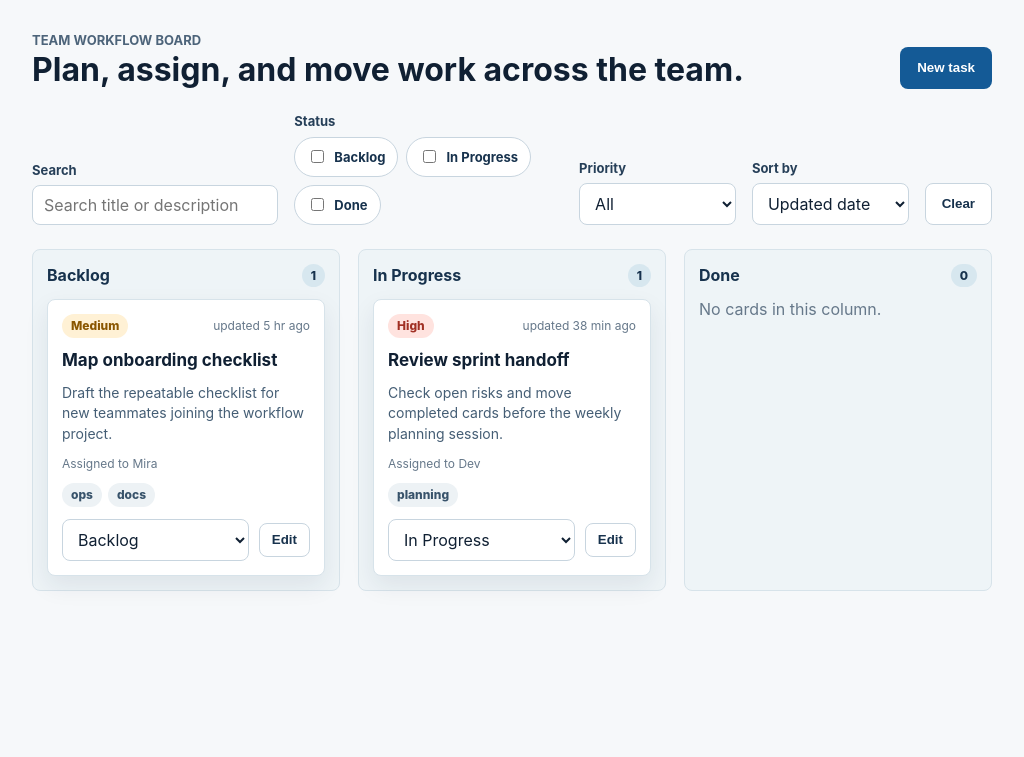
Test case: creates a task and shows it on the board
The width and height of the screenshot is (1024, 757).
Click the button "New task". click: click(946, 68)
box: [900,47,992,89]
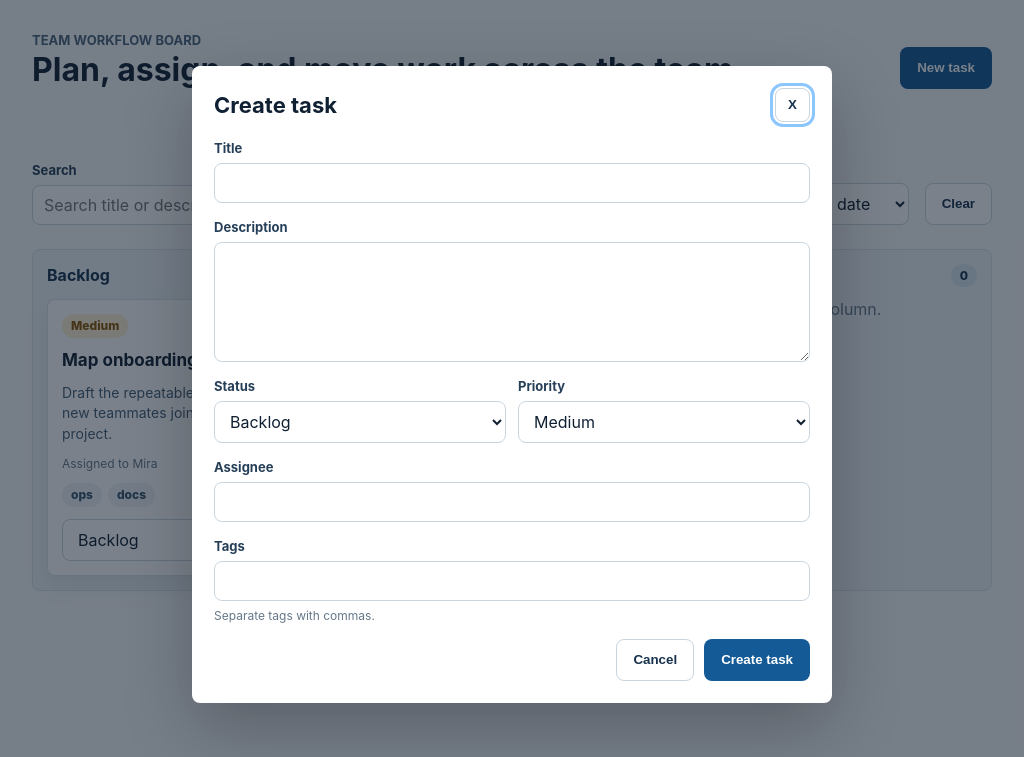
Type "Write release notes" into the field labelled "Title". click: (512, 182)
box: [214,162,810,202]
Type "Prepare the customer-facing release notes for the next workflow update." into the text box labelled "Description". click: (512, 302)
box: [214,242,810,362]
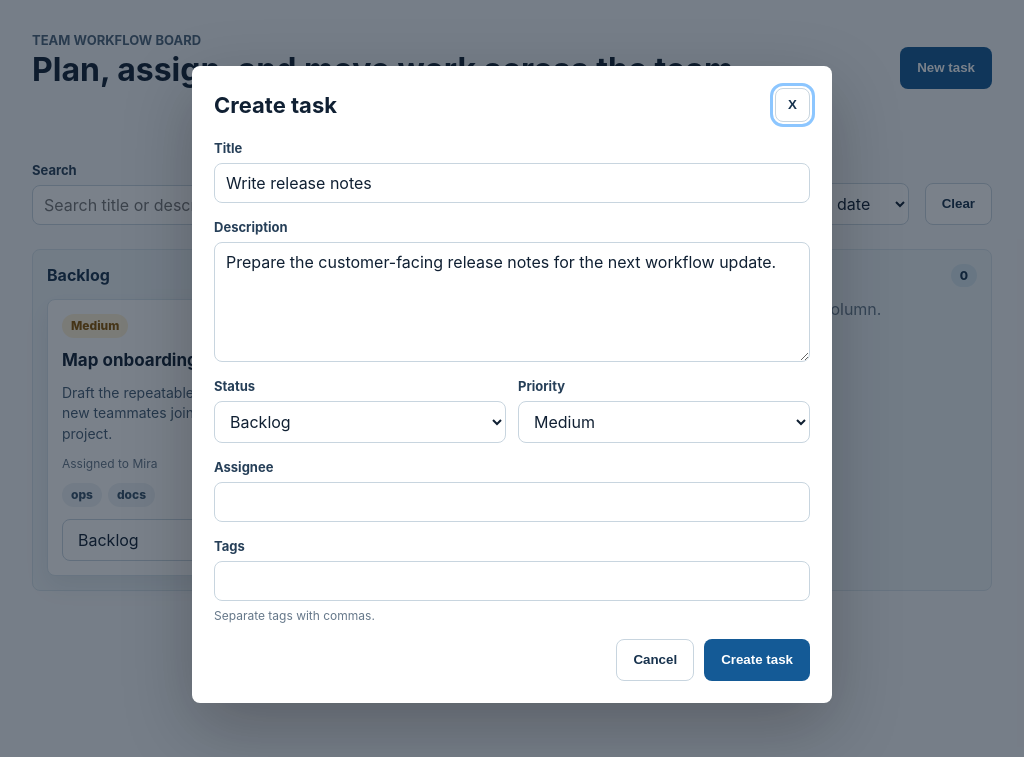
Type "Isha" into the field labelled "Assignee". click: (512, 502)
box: [214,482,810,522]
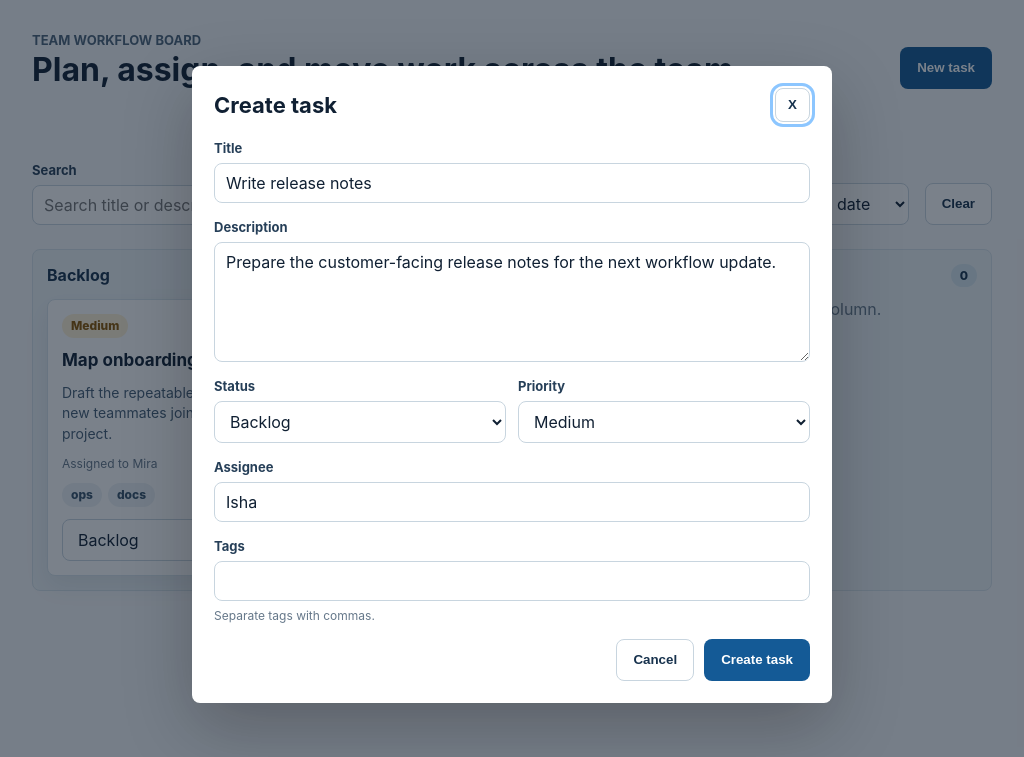
Type "release, docs" into the field labelled "Tags". click: (512, 580)
box: [214,560,810,600]
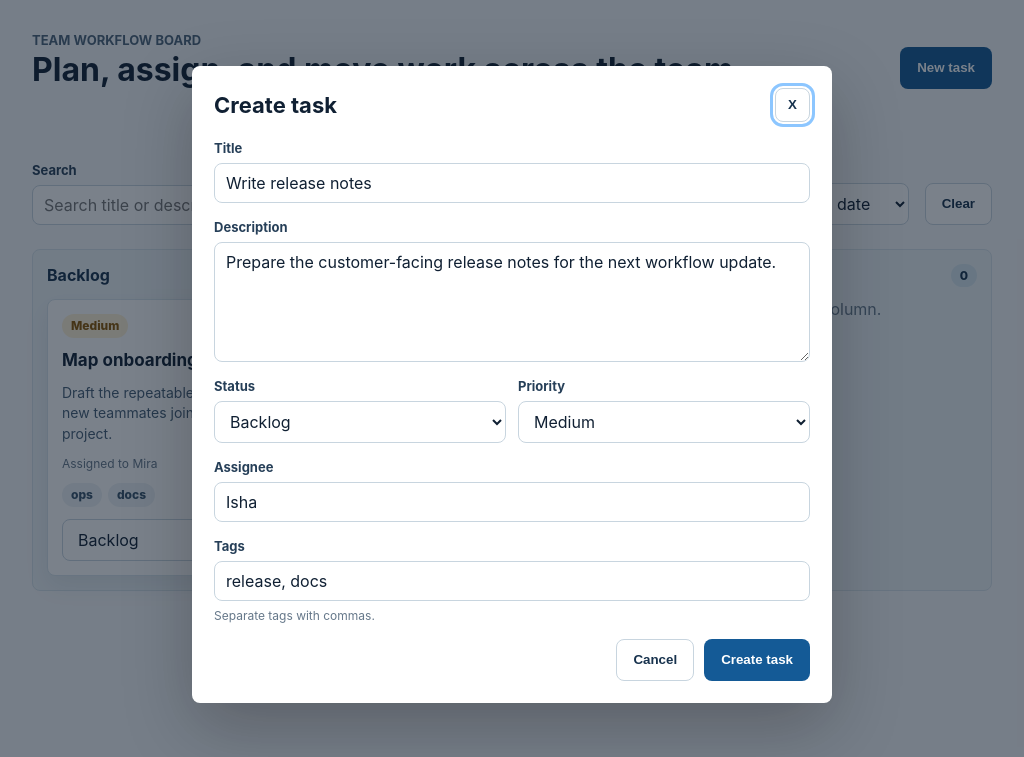
Select "High" in the dropdown labelled "Priority". click: (664, 422)
box: [518,400,810,442]
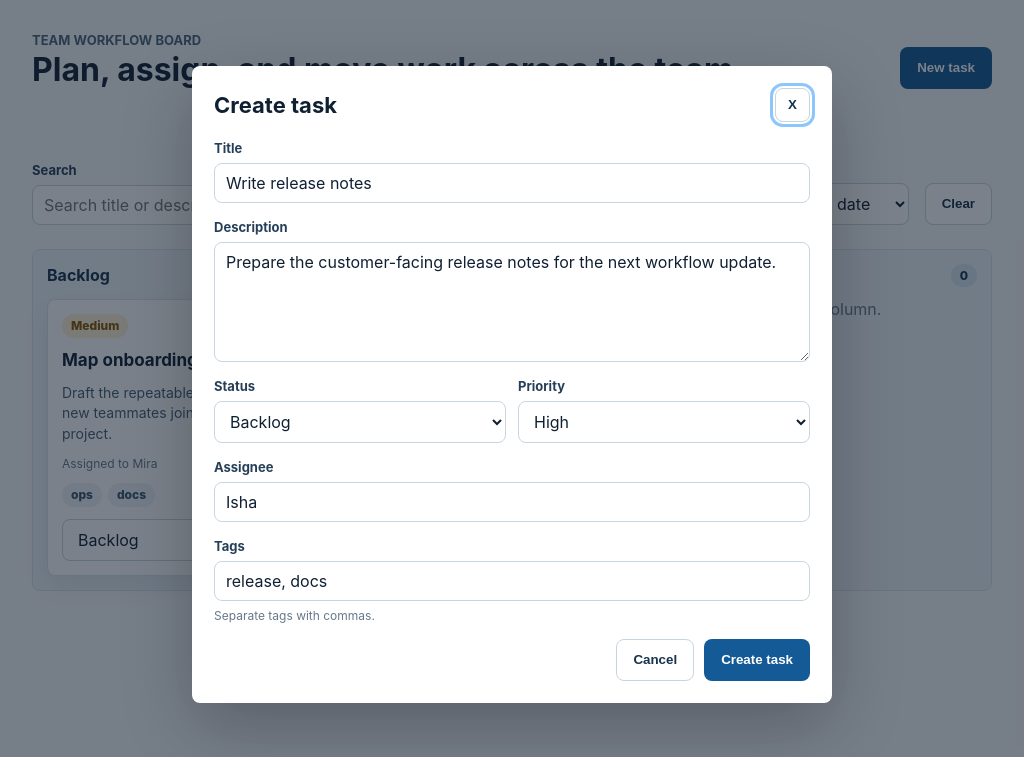
Click the button "Create task". click: click(757, 660)
box: [704,638,810,680]
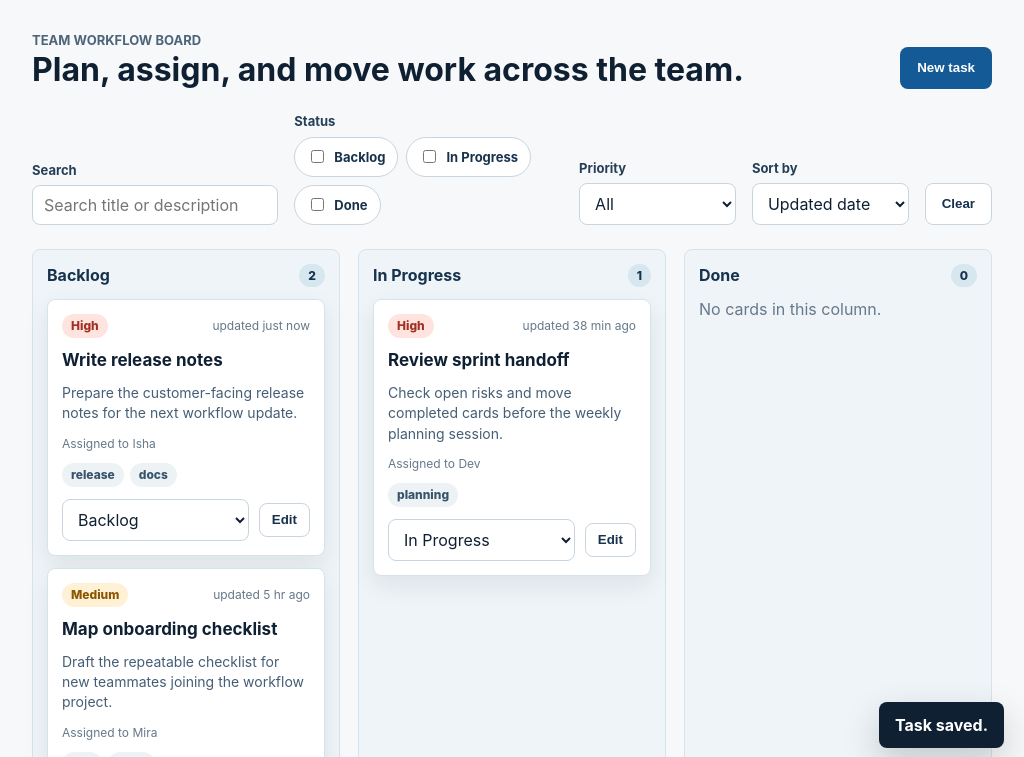
Expected: the heading "Write release notes" is shown, [62,350,223,370]
Expected: the text "Assigned to Isha" is shown, [62,436,156,451]
Expected: the text "release" is shown, [62,463,124,487]
